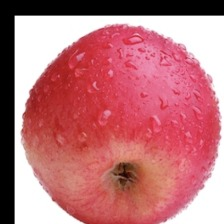apple: (28, 11, 164, 178)
